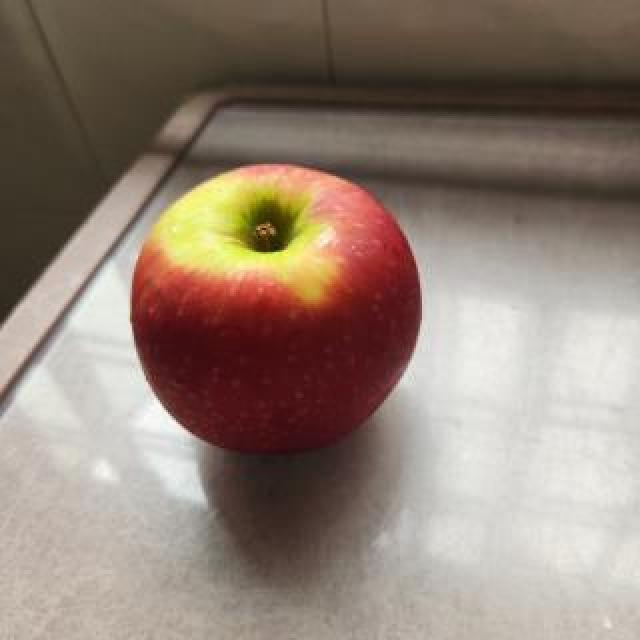Fresh Apple: (131, 167, 416, 449)
